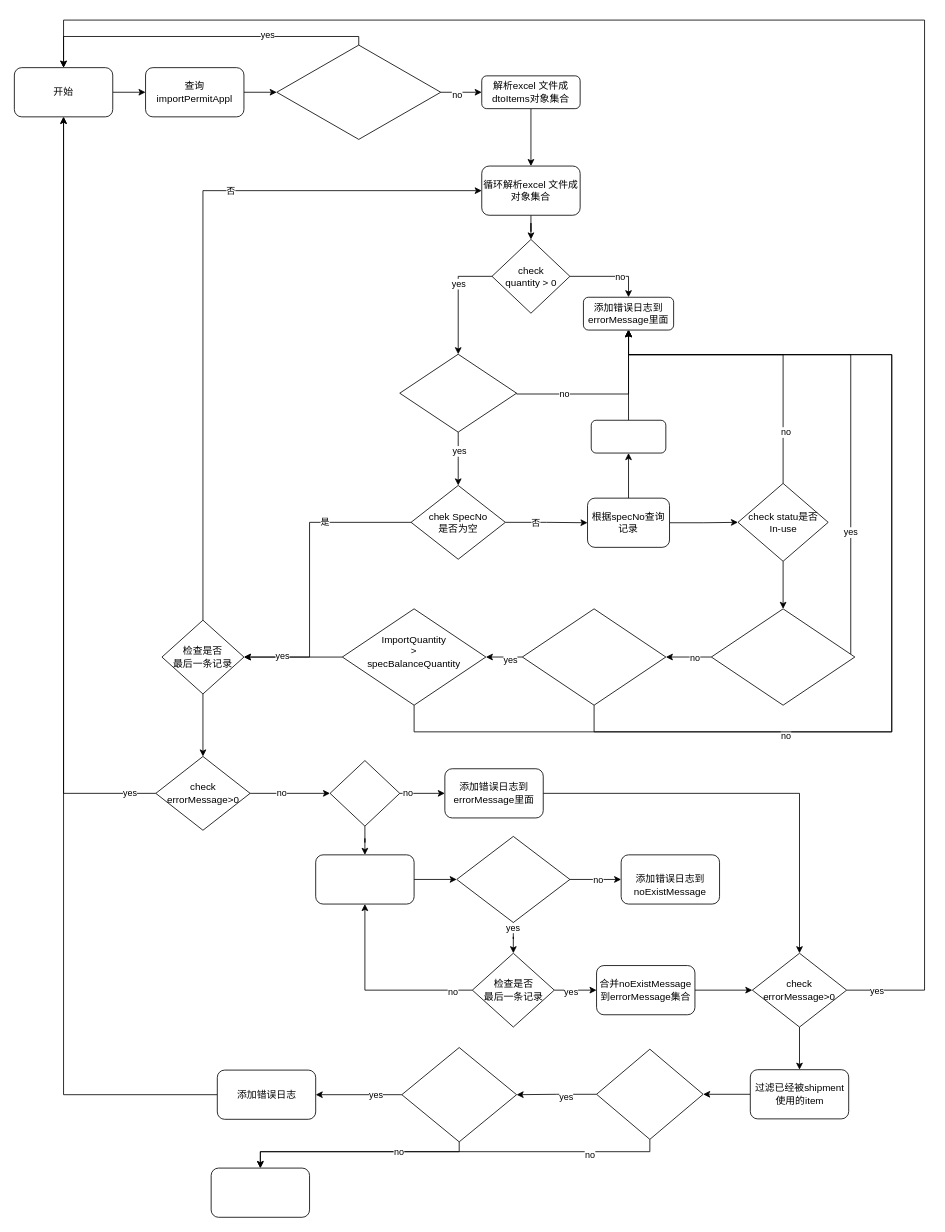
The diagram is 945 pixels wide and 1232 high, and some of its shapes have lost their labels. The shapes that lost their labels are listed below. From the top down, each one's centre as x and y in pixels, then its label:
At pixel 358 91: "permitStatus!=submitted && permitStatus!=in-use".
At pixel 458 392: "check item master 信息是否正确".
At pixel 628 436: "查询为空".
At pixel 594 656: "check specItemCode 和permitItemCode 是否相同".
At pixel 783 656: "specType== one-off && OneOffUsedFlg==true".
At pixel 364 793: "dbItem和 dtoItem数量是否一样".
At pixel 364 879: "循环dtoItem".
At pixel 513 879: "seq&itemCode& lotNo是否能在dbitem里 找出记录".
At pixel 459 1094: "check permitNo receivedDate expiryDate是否为空".
At pixel 649 1093: "permitApplStatus == in-use".
